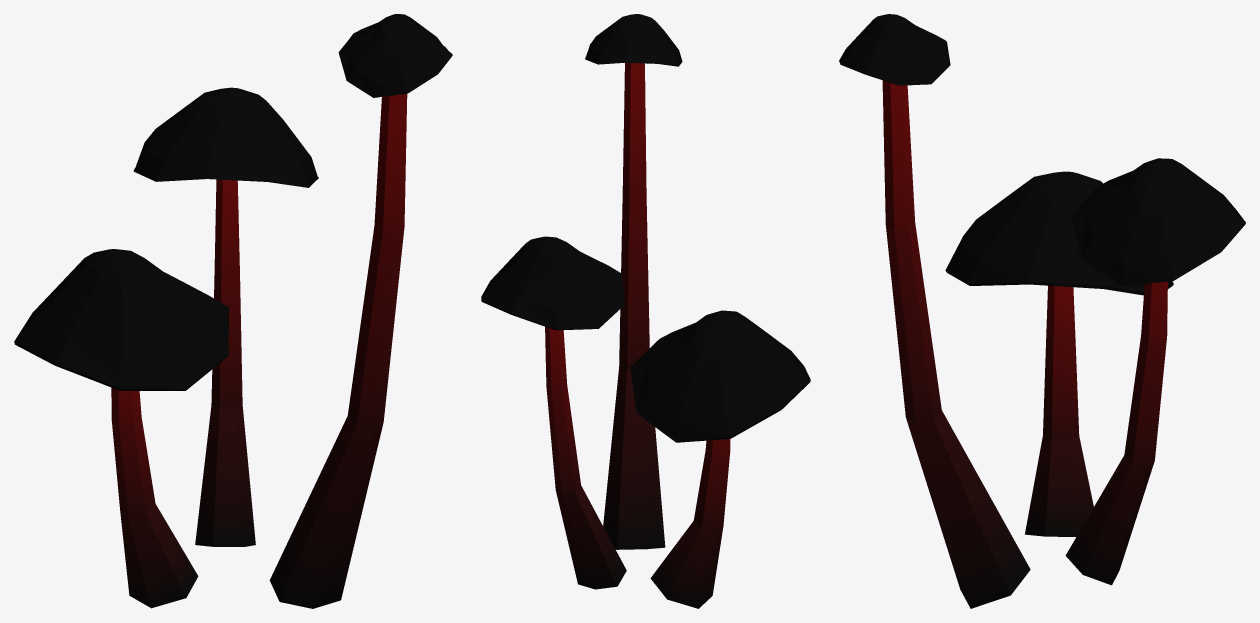
Rendered from FungiUmbona02.fbx.
3 renders of one model, left to right at view 1: azimuth 30°, elevation 25°; view 2: azimuth 150°, elevation 25°; view 3: azimuth 270°, elevation 25°, orthographic. The views are drawn at different scales.
Visible parts, largest first — view 1: FungiUmbona02; view 2: FungiUmbona02; view 3: FungiUmbona02.
Part boxes in pixels (bbox=[...]): FungiUmbona02: bbox=[14, 14, 452, 608]; FungiUmbona02: bbox=[481, 14, 810, 608]; FungiUmbona02: bbox=[839, 14, 1245, 608].
Bounding box in the file's own units: 18 × 31.62 × 19.42.
